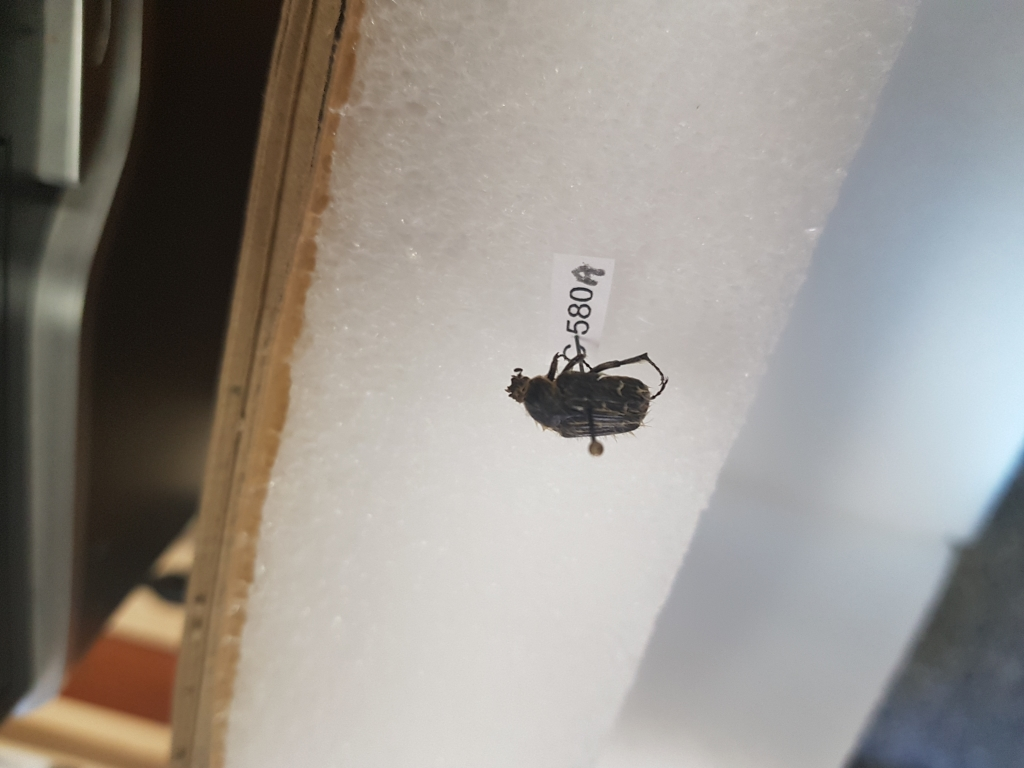Tropinota_hirta: (500, 340, 675, 444)
